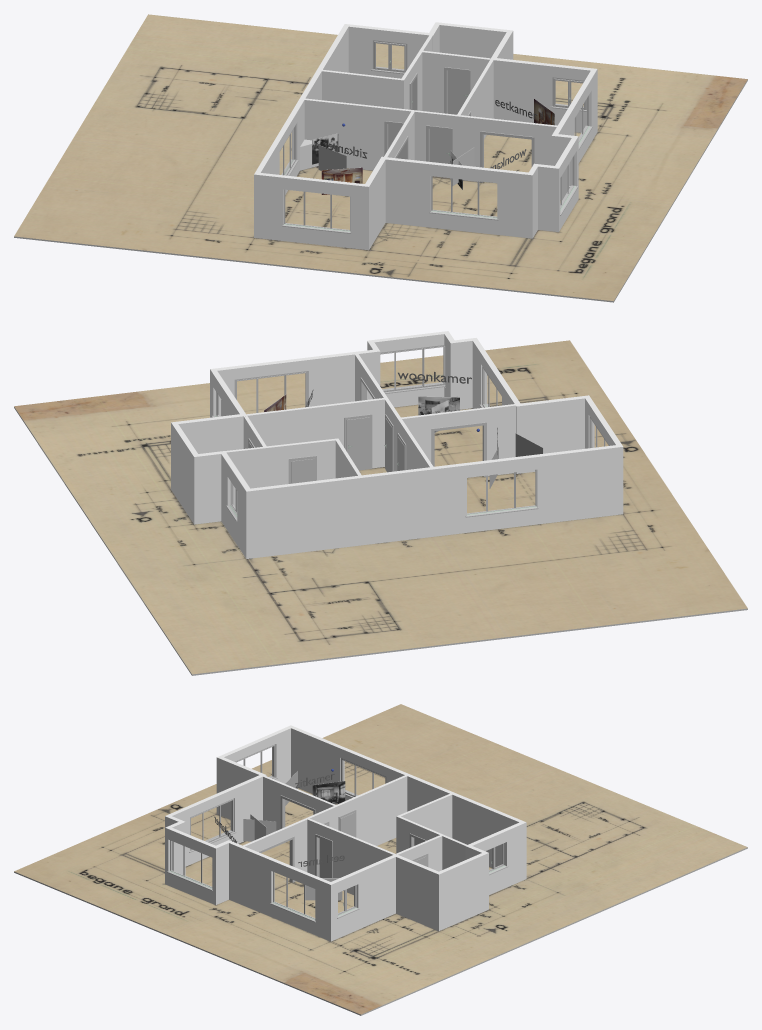
File: commandantwoning_ground_floor.dae
3 views of the same model, one above another, from view 1: azimuth 30°, elevation 25°; view 2: azimuth 150°, elevation 25°; view 3: azimuth 270°, elevation 25° (orthographic). The views are drawn at different scales.
Visible parts, largest first — view 1: plattegrond_commandantswoning_begane_grond, walls_ground_floor, Panel_005, Panel, Foto_006, Foto_005; view 2: plattegrond_commandantswoning_begane_grond, walls_ground_floor, Panel_003; view 3: plattegrond_commandantswoning_begane_grond, walls_ground_floor, Foto_005.
Part boxes in pixels (x1,y1,x2,y2): plattegrond_commandantswoning_begane_grond: (14, 14, 747, 302); walls_ground_floor: (254, 22, 597, 250); Panel_005: (448, 70, 467, 114); Panel: (430, 128, 449, 163); Foto_006: (321, 167, 362, 194); Foto_005: (318, 145, 346, 170); plattegrond_commandantswoning_begane_grond: (14, 340, 747, 675); walls_ground_floor: (171, 331, 623, 558); Panel_003: (346, 417, 369, 470); plattegrond_commandantswoning_begane_grond: (14, 704, 747, 1015); walls_ground_floor: (165, 725, 526, 941); Foto_005: (312, 781, 345, 804).
Bounding box in the file's own units: 30 × 29.96 × 2.95.
Materials: 18 (7 with a texture image).
